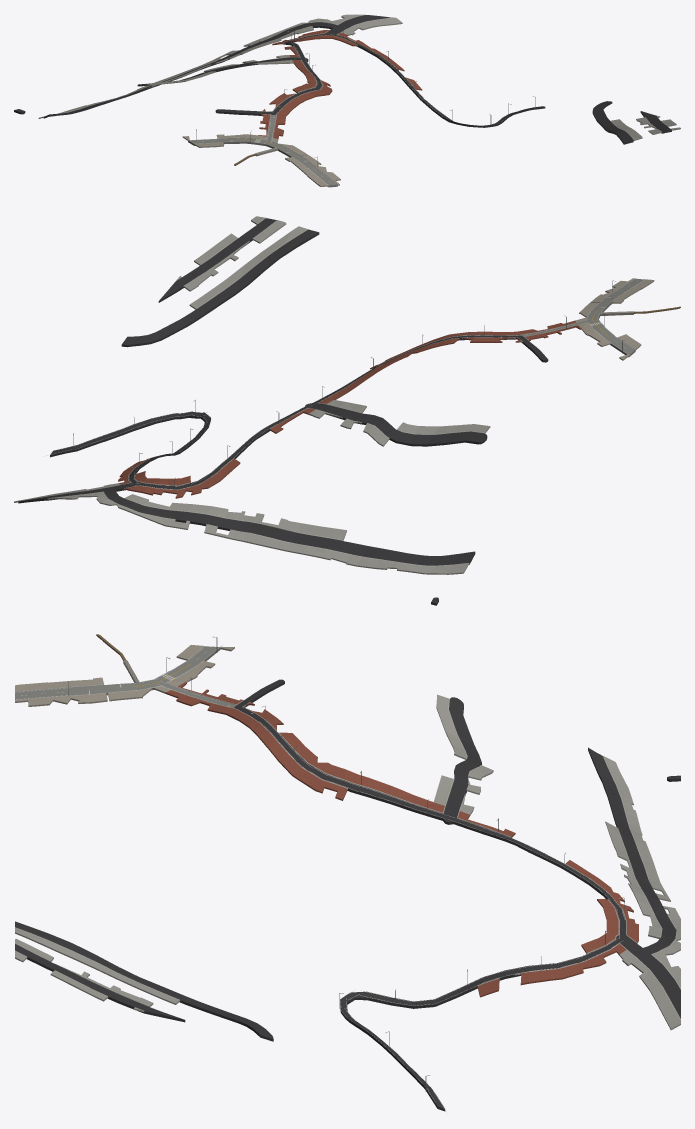
3 renders of one model, top to bottom at view 1: azimuth 30°, elevation 25°; view 2: azimuth 150°, elevation 25°; view 3: azimuth 270°, elevation 25°, orthographic. The views are drawn at different scales.
Size of the model in its own units: 300 by 95.81 by 292.
